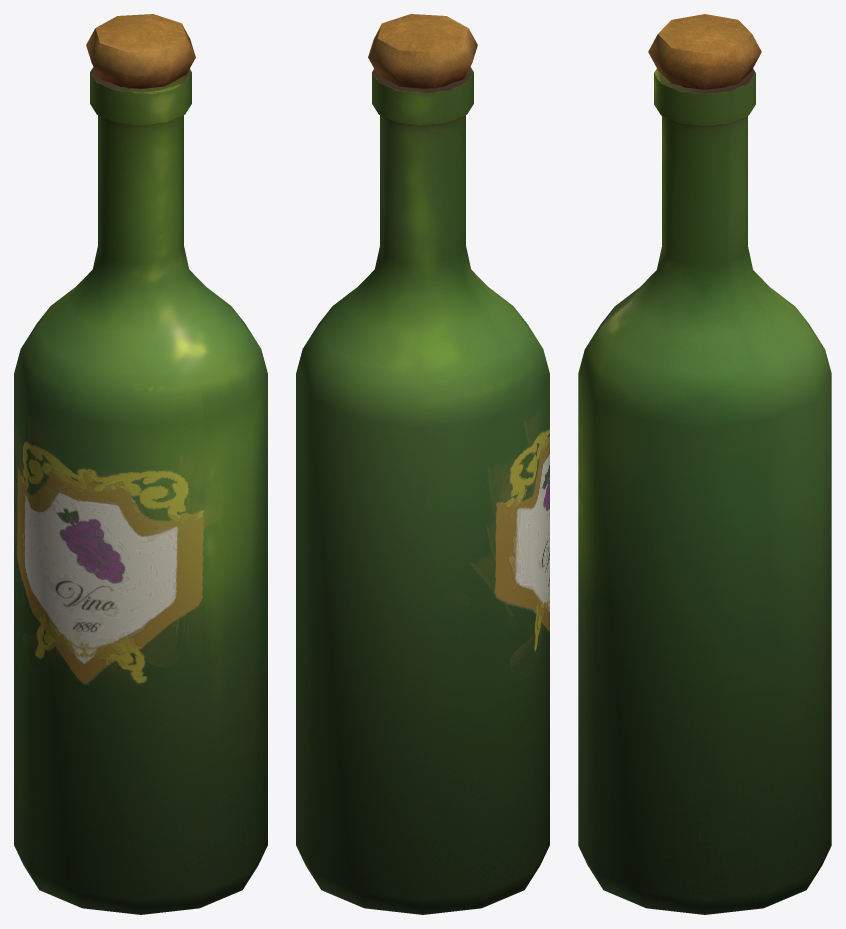
The model's file is LV1_Botella_Md_2.fbx.
3 views of the same model, side by side, from view 1: azimuth 30°, elevation 25°; view 2: azimuth 150°, elevation 25°; view 3: azimuth 270°, elevation 25° (orthographic).
Visible parts, largest first — view 1: Wine_Bottle; view 2: Wine_Bottle; view 3: Wine_Bottle.
Boxes of the visible parts, x1,y1,x2,y2 form: Wine_Bottle: (14,14,267,914); Wine_Bottle: (296,14,549,914); Wine_Bottle: (578,14,831,914).
Size of the model in its own units: 8.11 by 29.97 by 8.11.
2 materials, 2 textured.
